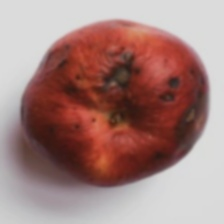apple: (35, 44, 205, 200)
